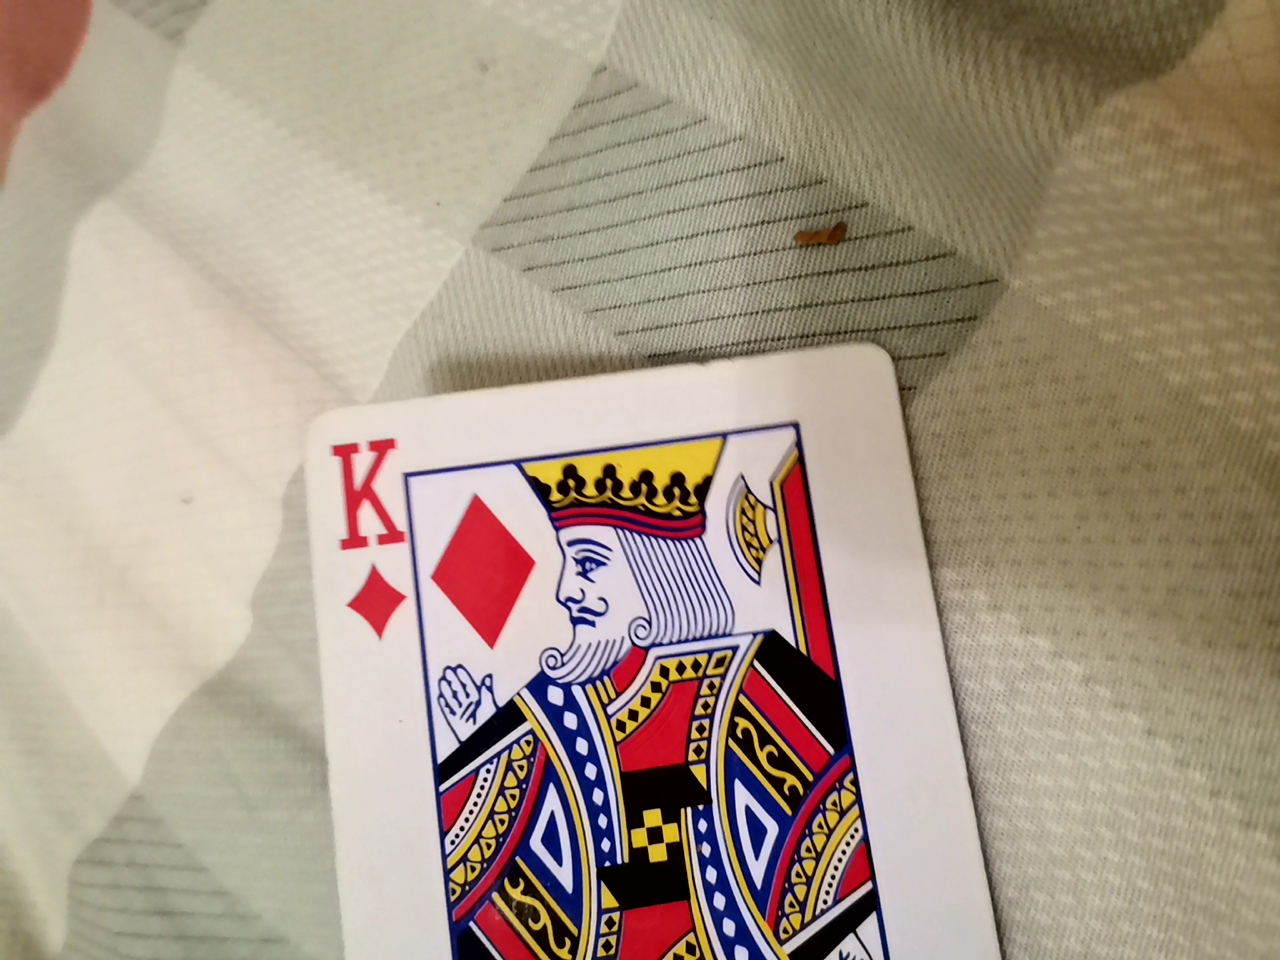fk k: (290, 342, 1019, 960)
